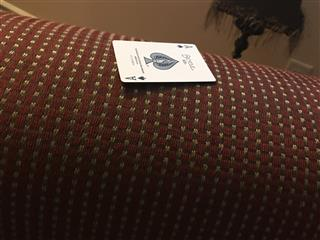AceOfSpades: (111, 39, 216, 82)
